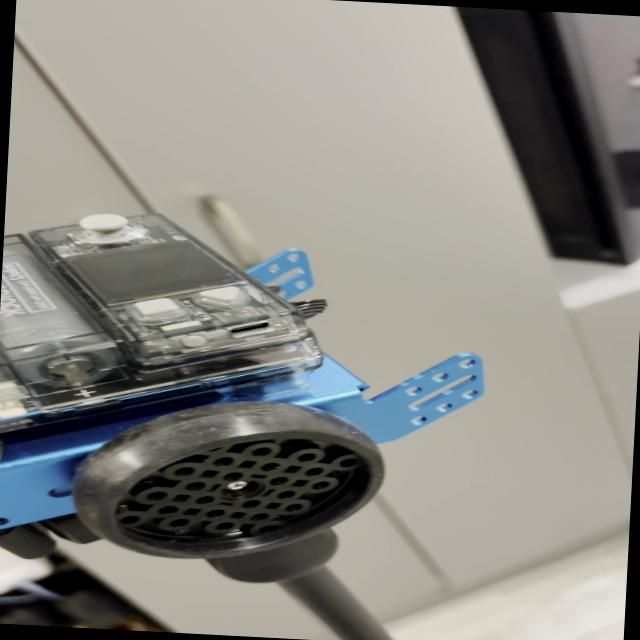mbot-detection: (0, 185, 503, 578)
